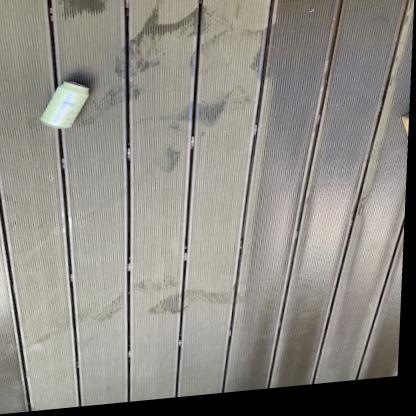trash: (40, 81, 88, 127)
